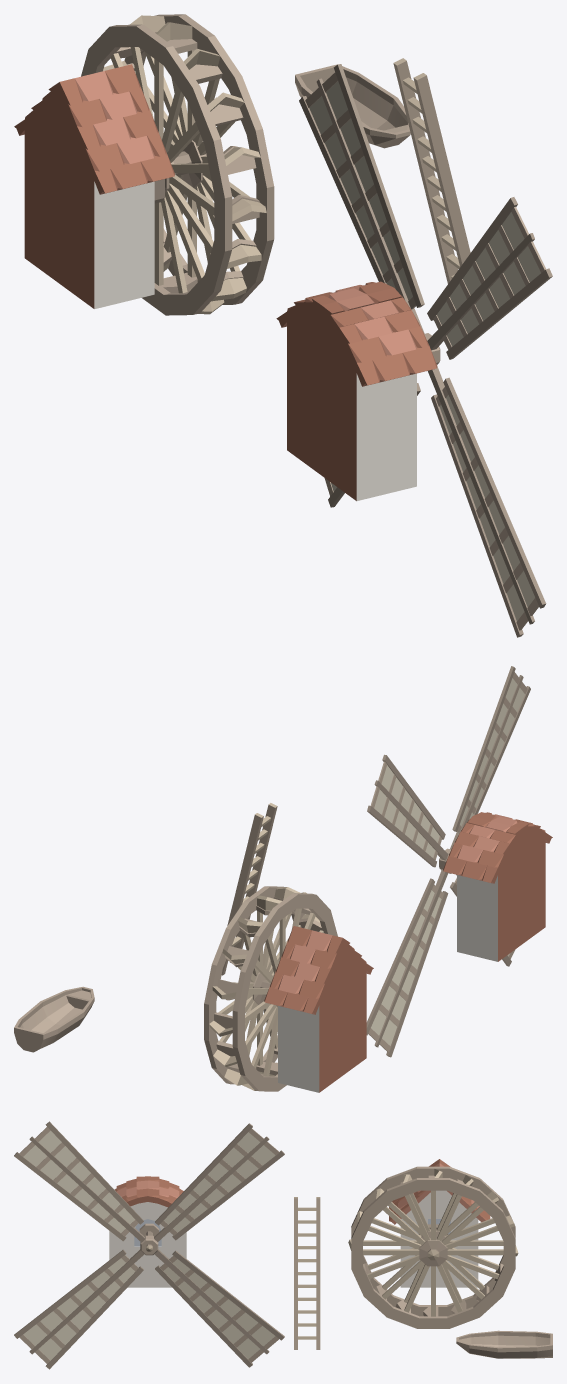
The picture shows the model from 3 angles, top to bottom: view 1: azimuth 30°, elevation 25°; view 2: azimuth 150°, elevation 25°; view 3: azimuth 270°, elevation 25°; orthographic projection. The views are drawn at different scales.
Visible parts, largest first — view 1: waterwheel_waterwheel, windmill_windmill, waterwheel, windmill, ladder, boat; view 2: waterwheel_waterwheel, windmill_windmill, waterwheel, windmill, boat, ladder; view 3: windmill_windmill, waterwheel_waterwheel, windmill, waterwheel, boat, ladder.
Part boxes in pixels (x1,y1,x2,y2): waterwheel_waterwheel: (81,14,274,315); windmill_windmill: (299,64,552,637); waterwheel: (14,64,174,309); windmill: (276,281,437,501); ladder: (393,58,470,283); boat: (295,64,410,148); waterwheel_waterwheel: (204,886,337,1091); windmill_windmill: (366,666,530,1057); waterwheel: (264,926,373,1092); windmill: (443,812,552,961); boat: (14,986,94,1052); ladder: (221,803,277,975); windmill_windmill: (14,1121,284,1369); waterwheel_waterwheel: (348,1166,518,1328); windmill: (109,1176,186,1287); waterwheel: (389,1159,490,1287); boat: (456,1330,552,1358); ladder: (294,1197,320,1349).
Size of the model in its own units: 6.48 by 7 by 13.92.
